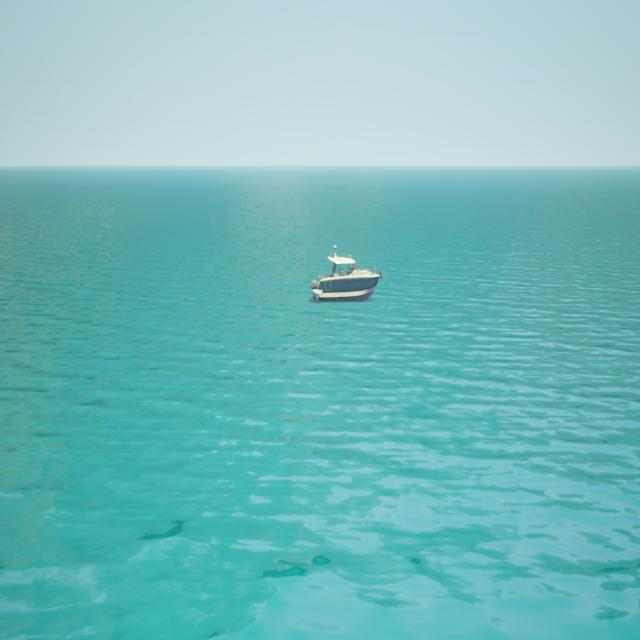ship: (310, 242, 382, 301)
